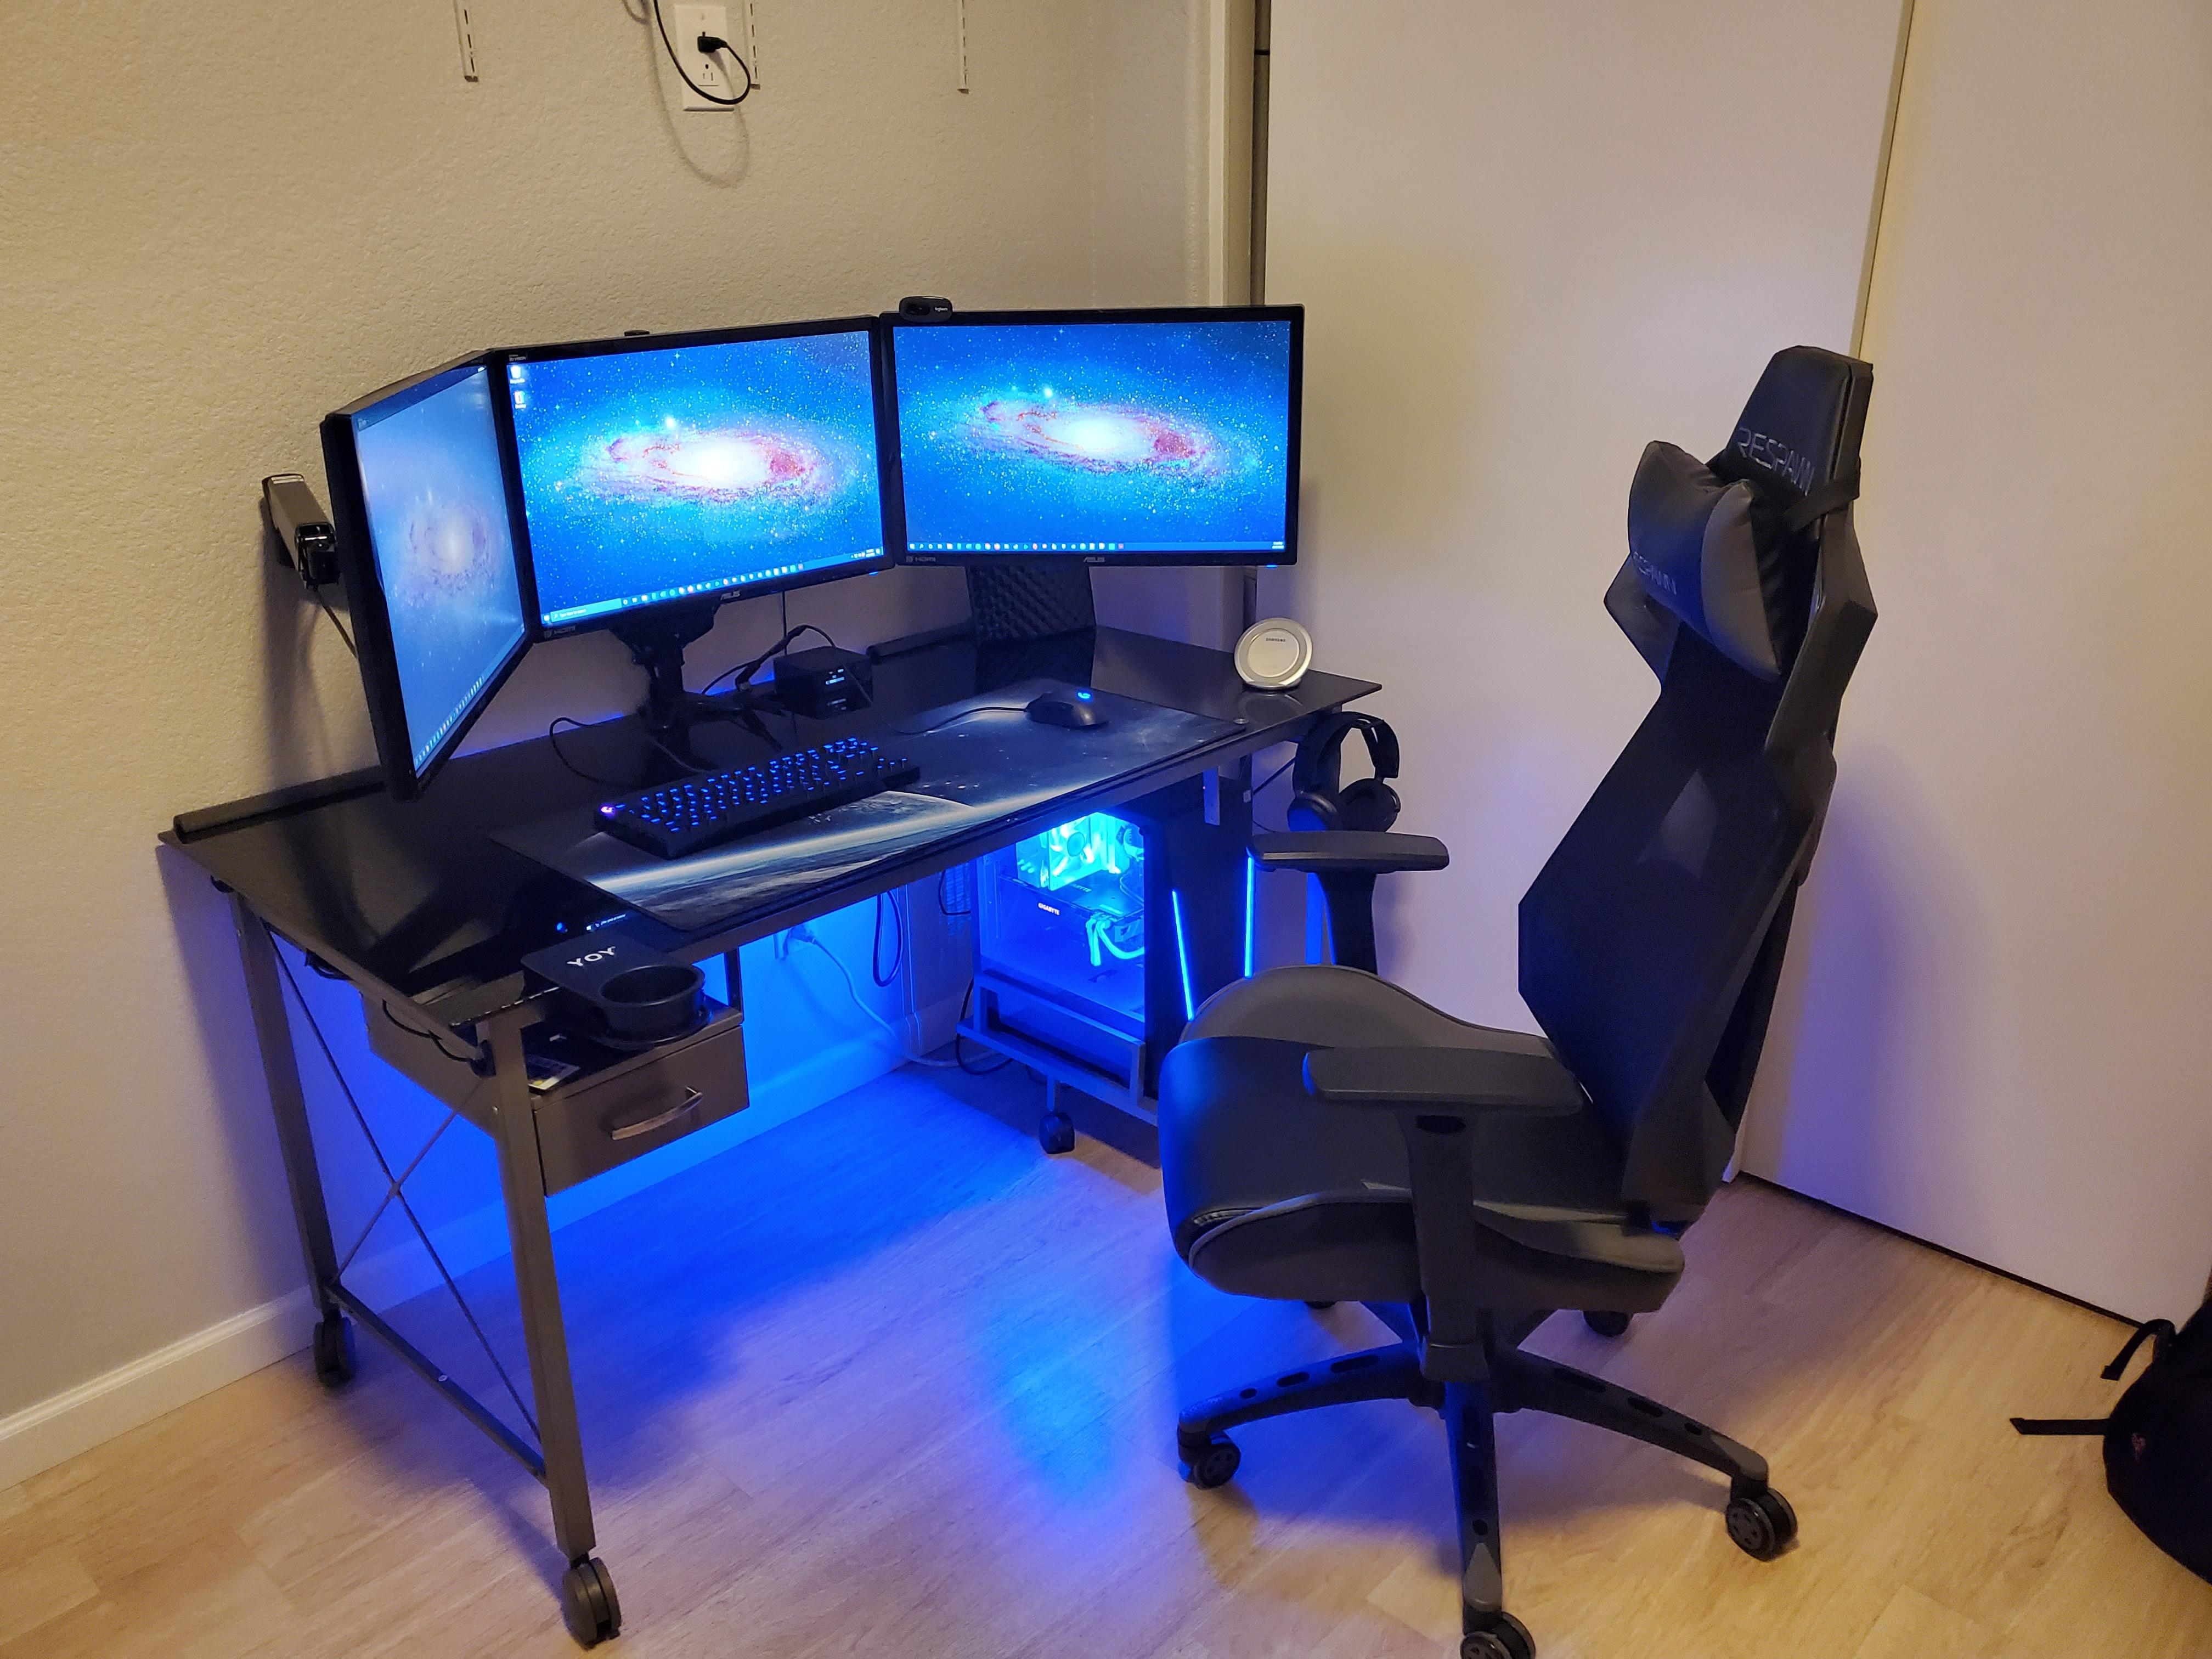Cellphone Charger (Wireless): (1223, 603, 1315, 694)
Chair (Gaming): (1080, 305, 1961, 1659)
Desk (Generic): (148, 584, 1440, 1643)
Desktop (Windows): (925, 760, 1270, 1061)
External Webcam: (890, 286, 961, 322)
Headphones: (1261, 692, 1425, 849)
Keyboard (Gaming): (592, 718, 923, 870)
Monitor (Landscape): (475, 308, 914, 636), (874, 307, 1322, 579), (314, 340, 545, 817)
Monitor Arm: (237, 448, 361, 619)
Mouse (Gaming): (1019, 678, 1109, 739)
Mousepad (Gaming): (482, 653, 1266, 957)
